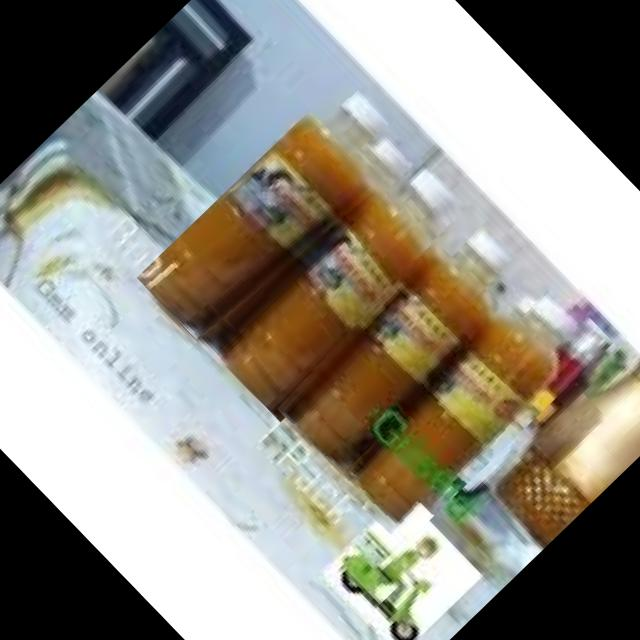plastic bottle: (321, 262, 613, 550), (136, 70, 426, 356), (267, 208, 538, 476), (214, 162, 478, 422)
